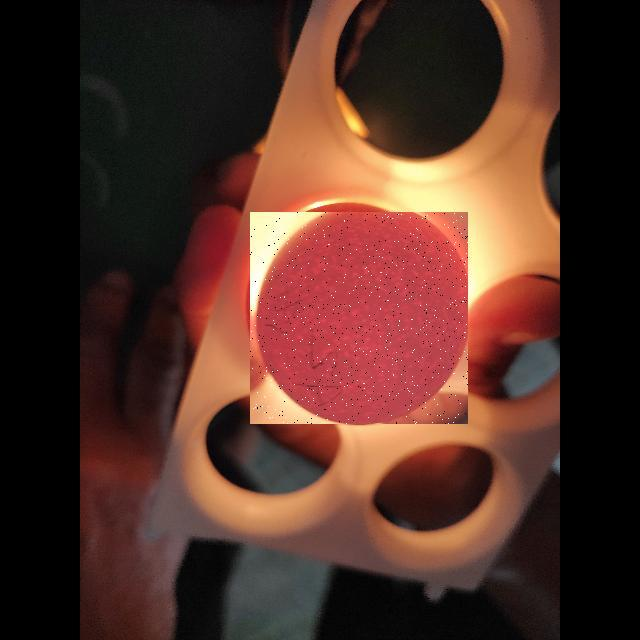Infertile: (250, 212, 468, 424)
